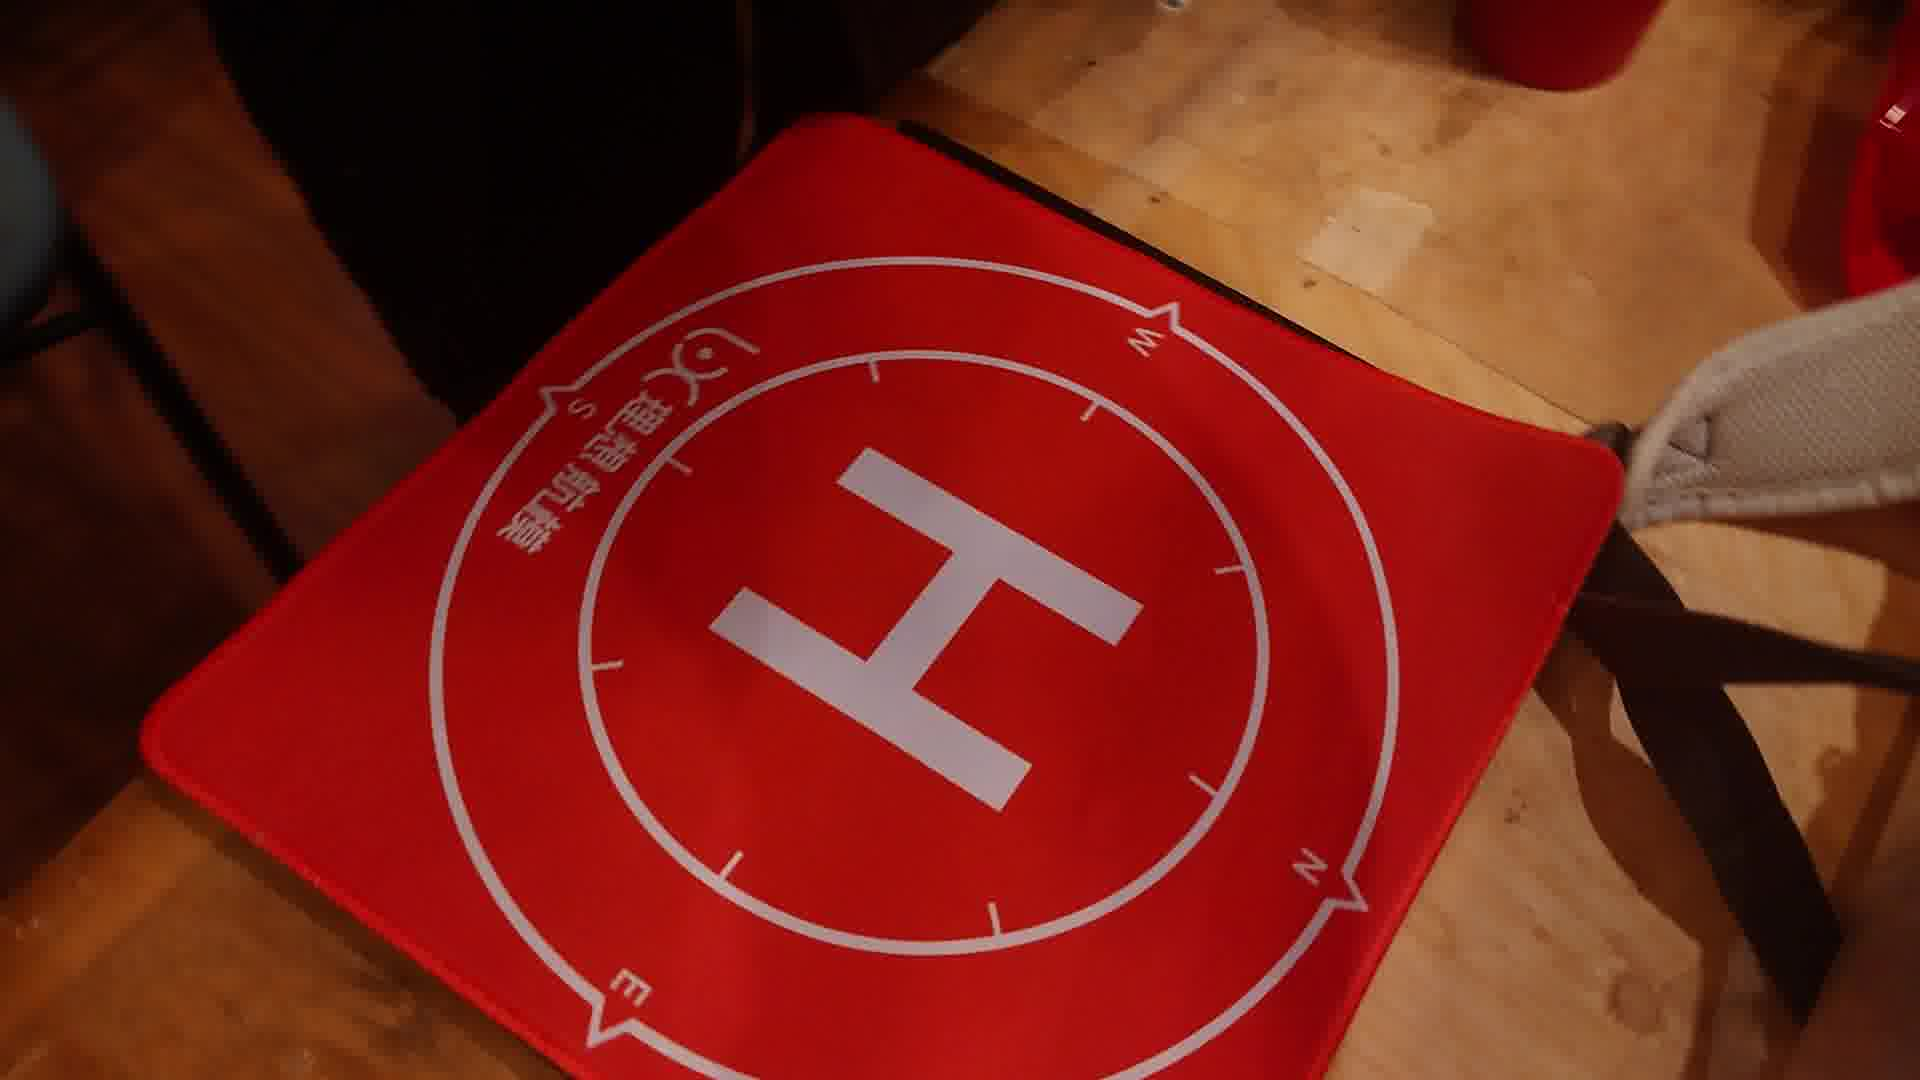H: (707, 448, 1147, 810)
